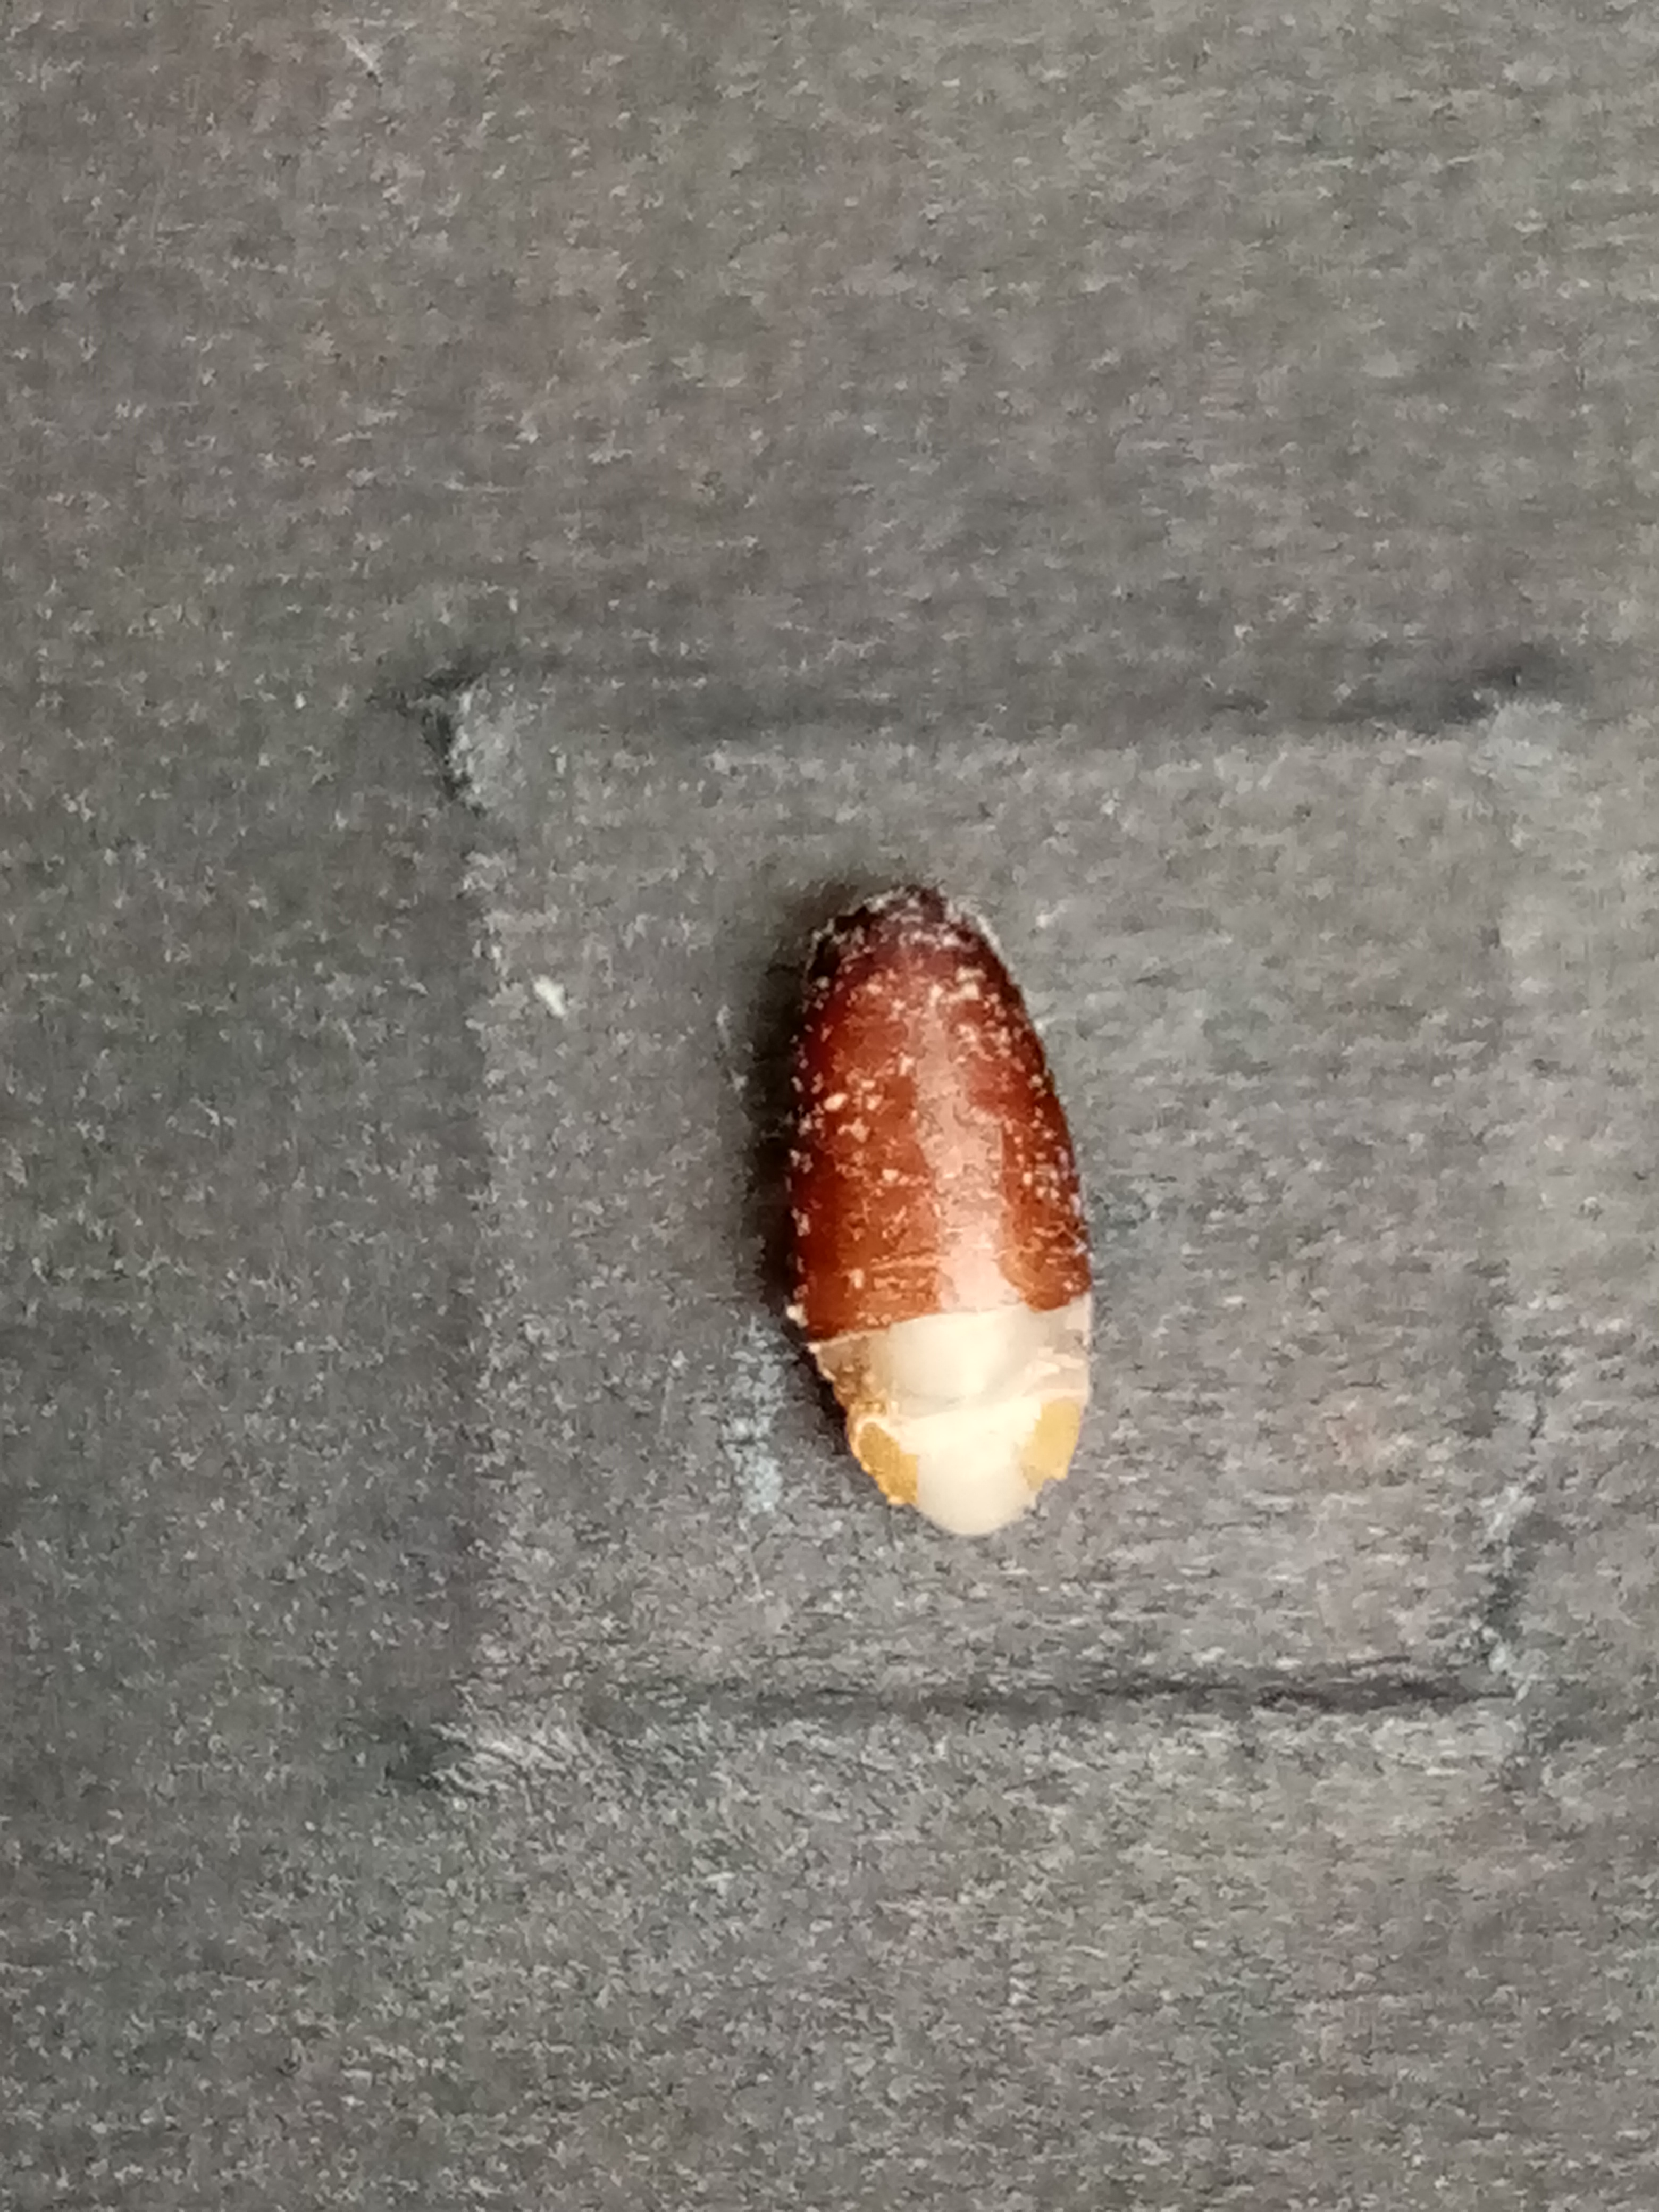pupa: (819, 1346, 1089, 1536)
